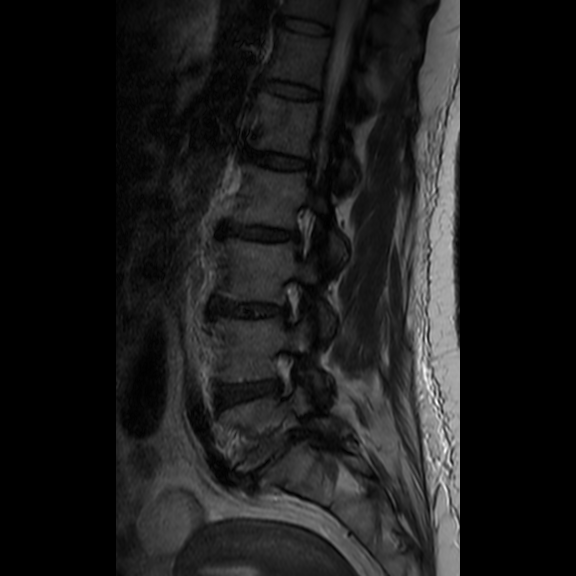LFS0: (265, 267, 307, 333), (260, 343, 301, 403)
